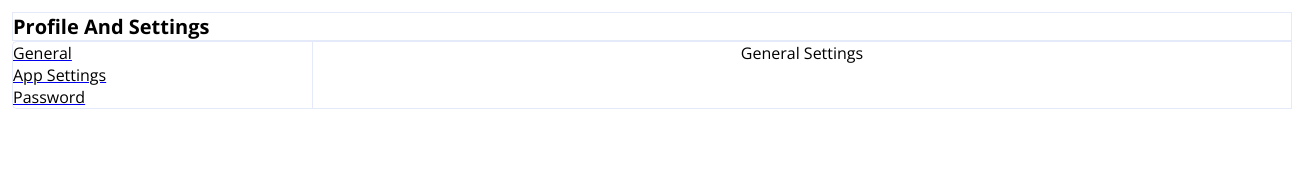
Test: Application Settings should only be visible after clicking the link
Expected: the text "Application Settings" is not shown
Click the menu item "App Settings" at (60, 75), box [13,64,106,86]
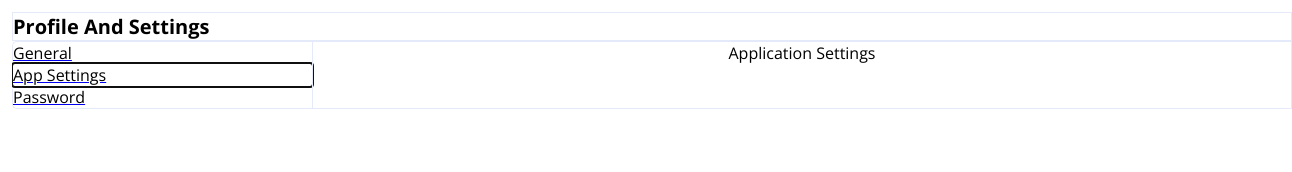
Expected: the text "Application Settings" is shown, [728,42,876,64]
